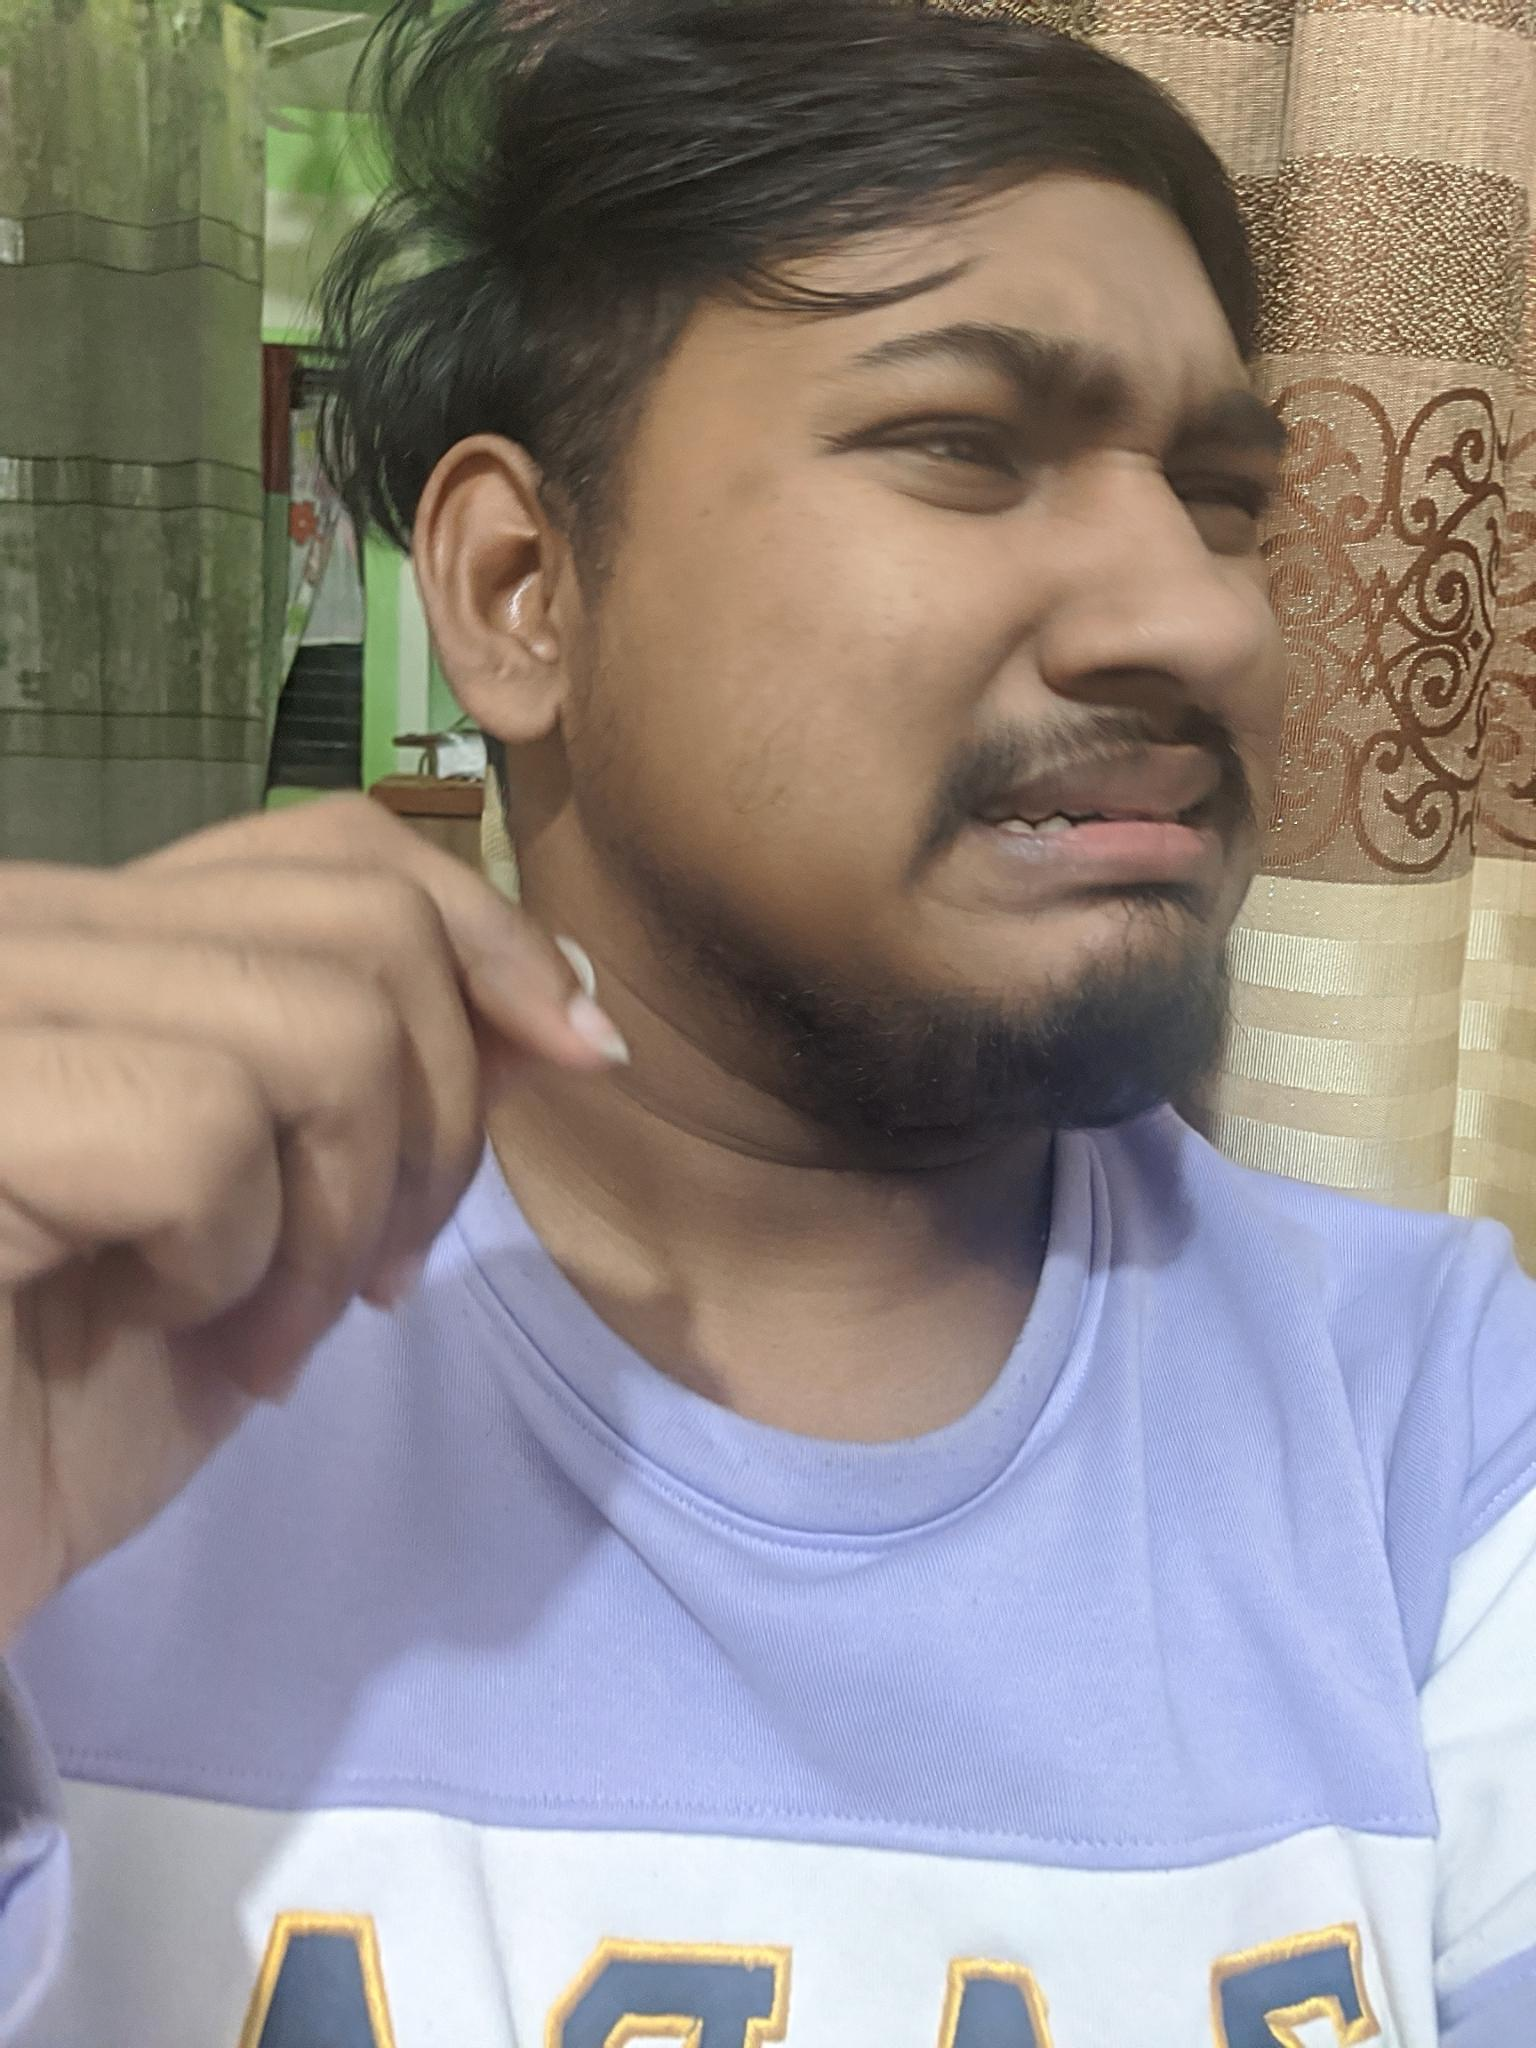Disgust: (752, 260, 1339, 1027)
